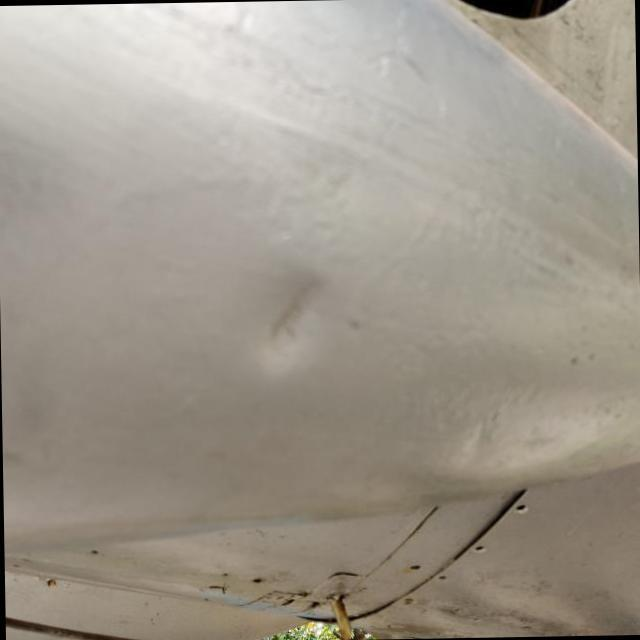Dent: (225, 253, 362, 377)
